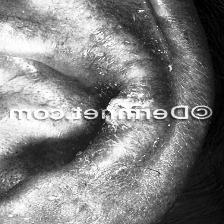Potentially Malignant Skin Tumors: (94, 88, 164, 106)
